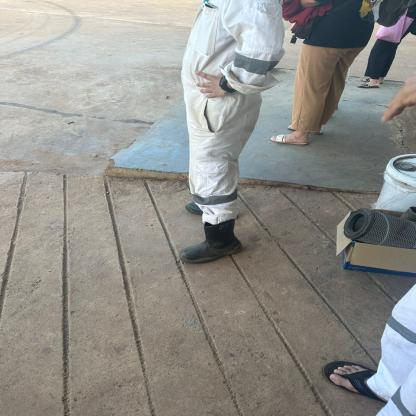bota: (178, 219, 244, 267), (186, 199, 208, 219)
